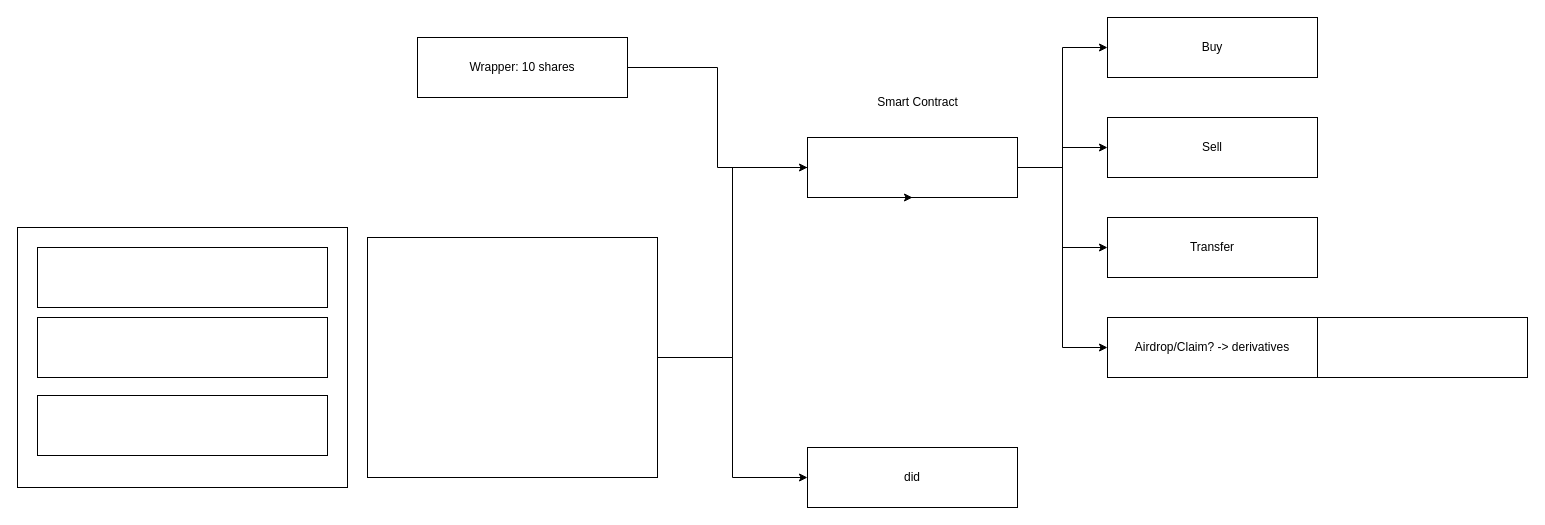
Some shapes in this 1545 by 525 pixel diagram are drawn without their labels. Each missing label, with the box of its shape:
Name: Details: Shares: 100 Documents:: (366, 236, 658, 478)
Nominee: (1316, 316, 1528, 378)
Shares:Tokens: (806, 136, 1018, 198)
